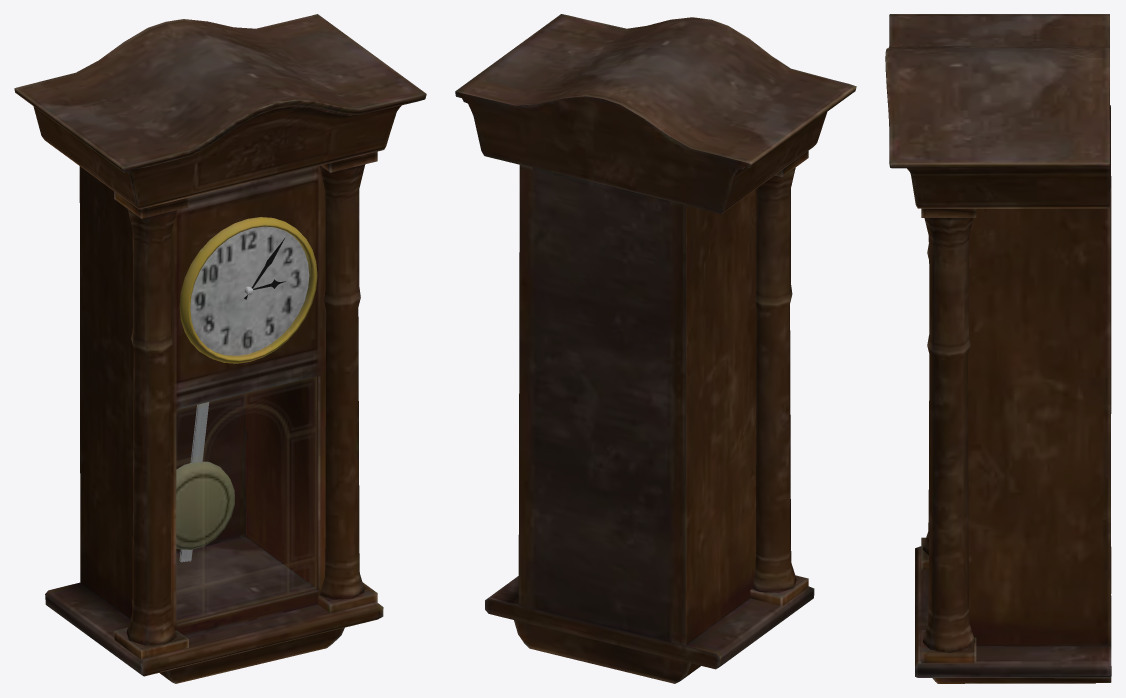
The model's file is old_wall_clock.glb.
3 renders of one model, left to right at view 1: azimuth 30°, elevation 25°; view 2: azimuth 150°, elevation 25°; view 3: azimuth 270°, elevation 25°, orthographic. The views are drawn at different scales.
Parts seen in each view (by area): view 1: wall_clock, wall_clock_pendulum, wall_clock_glass; view 2: wall_clock; view 3: wall_clock.
Boxes of the visible parts, x1,y1,x2,y2 form: wall_clock: (14,14,426,683); wall_clock_pendulum: (176,402,234,562); wall_clock_glass: (176,376,316,621); wall_clock: (455,14,856,683); wall_clock: (885,14,1111,683).
Size of the model in its own units: 0.2988 by 0.5519 by 0.1911.
Materials: 2 (2 with a texture image).
